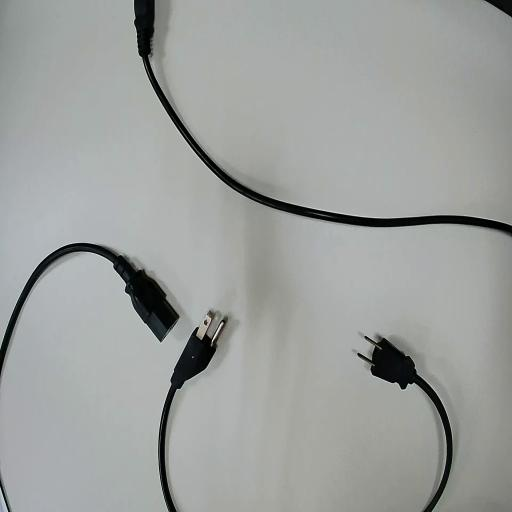wire: (135, 0, 511, 234), (0, 244, 177, 369), (360, 338, 451, 511), (160, 330, 216, 511)
